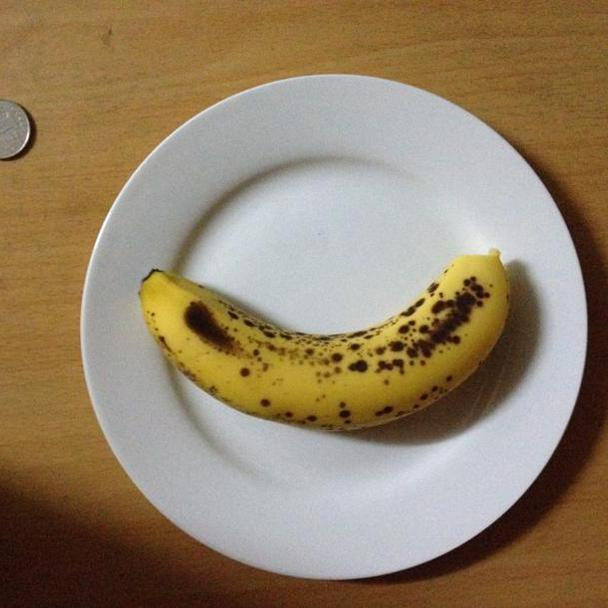banana: (132, 254, 518, 434)
